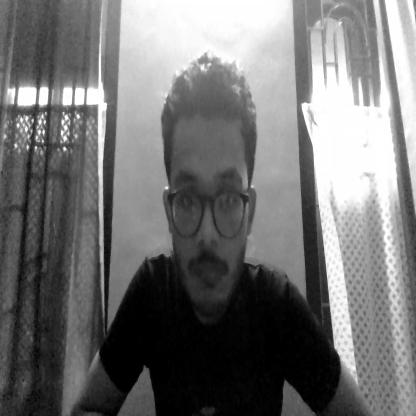Normal: (162, 49, 269, 308)
